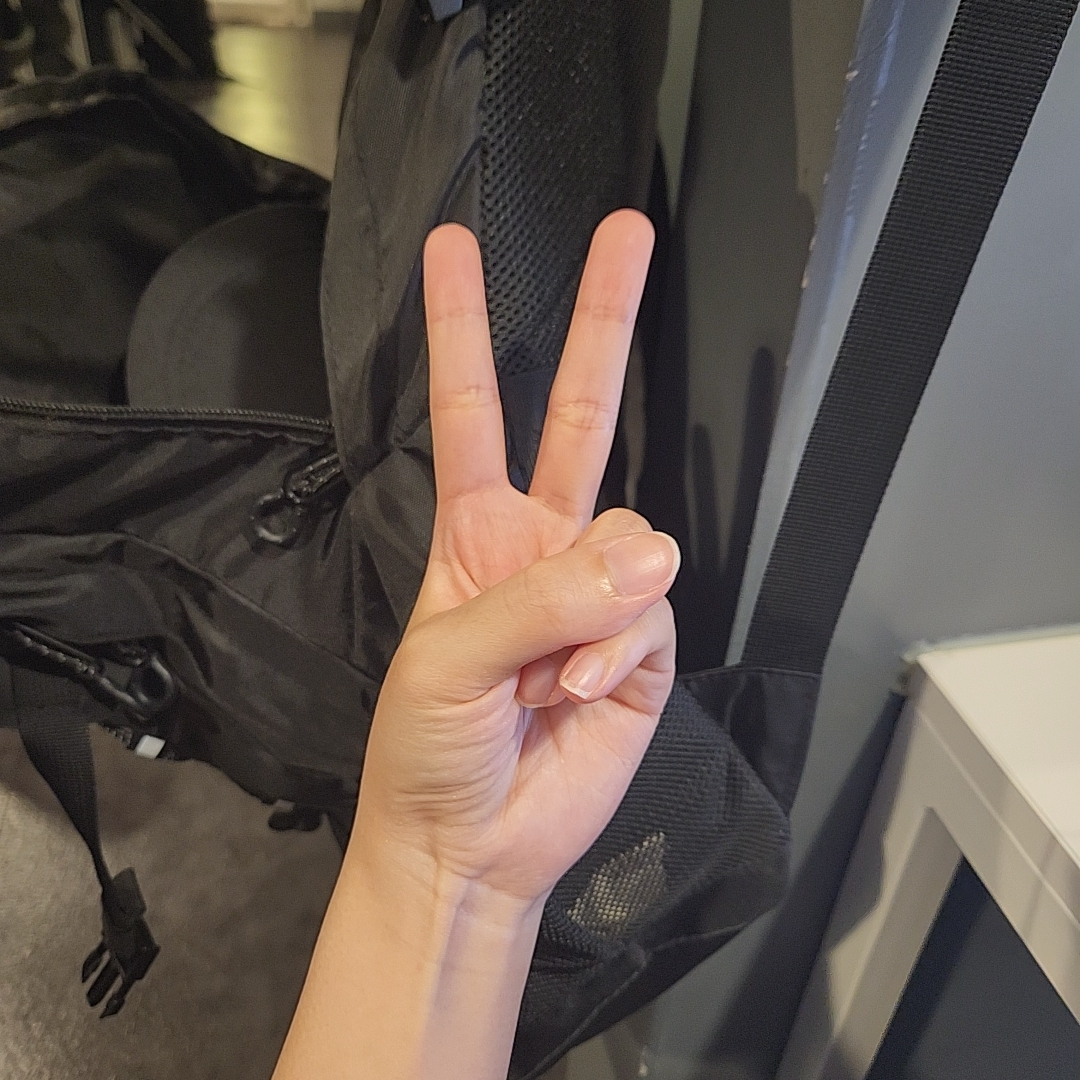peace: (353, 207, 685, 893)
